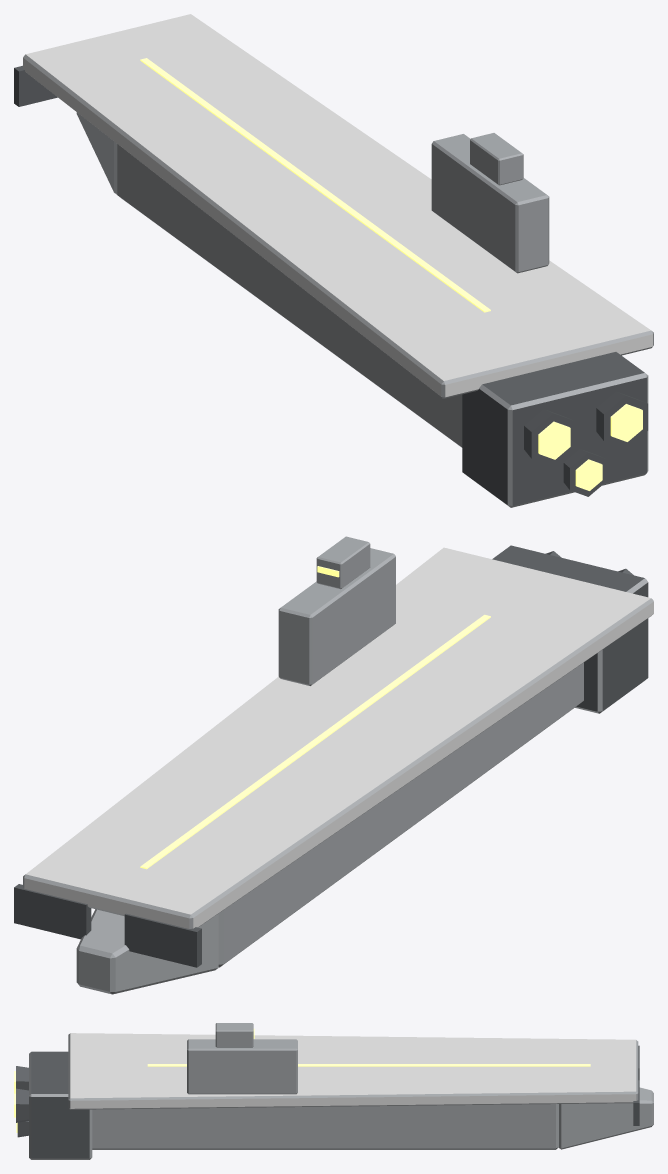
Rendered from human_carrier_mk1.glb.
3 views of the same model, one above another, from view 1: azimuth 30°, elevation 25°; view 2: azimuth 150°, elevation 25°; view 3: azimuth 270°, elevation 25° (orthographic). The views are drawn at different scales.
Parts seen in each view (by area): view 1: human_carrier_mk1_LOD0; view 2: human_carrier_mk1_LOD0; view 3: human_carrier_mk1_LOD0.
Part boxes in pixels (bbox=[...]): human_carrier_mk1_LOD0: bbox=[14, 14, 653, 507]; human_carrier_mk1_LOD0: bbox=[14, 536, 653, 994]; human_carrier_mk1_LOD0: bbox=[14, 1023, 653, 1159].
Size of what is drawn, in the model's own units: 9.99 by 9.5 by 40.44.
